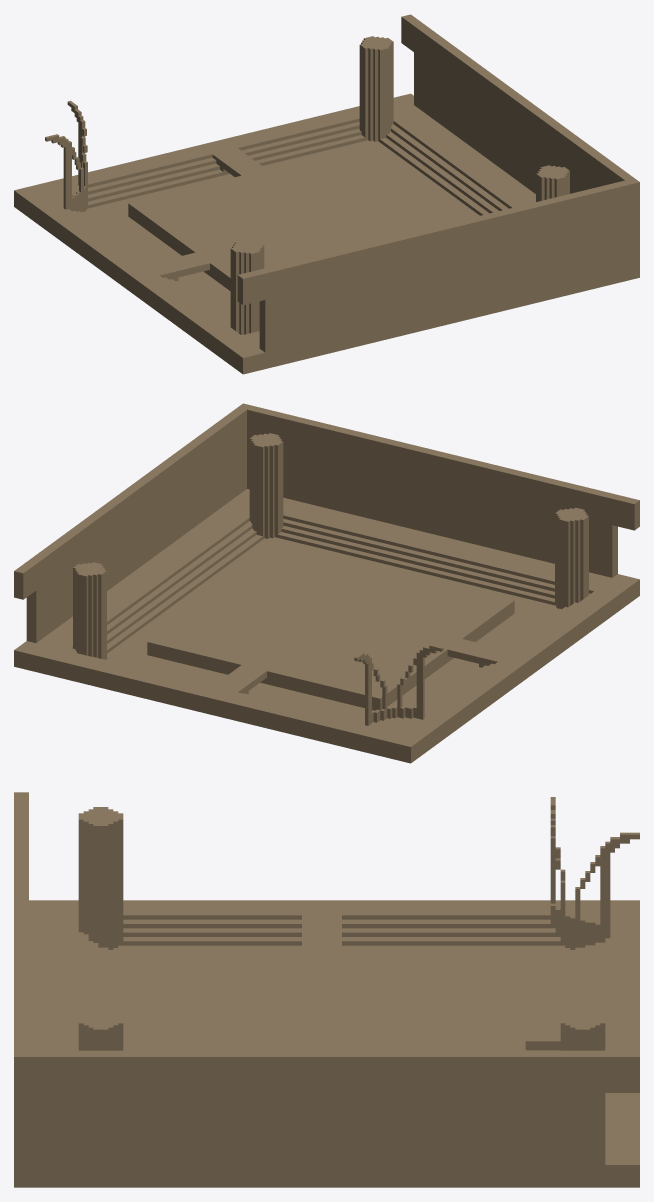
The model's file is casketroom-3.obj.
3 views of the same model, one above another, from view 1: azimuth 30°, elevation 25°; view 2: azimuth 150°, elevation 25°; view 3: azimuth 270°, elevation 25° (orthographic). The views are drawn at different scales.
Size of the model in its own units: 12.6 by 2.9 by 12.6.
Materials: 1 (1 with a texture image).
